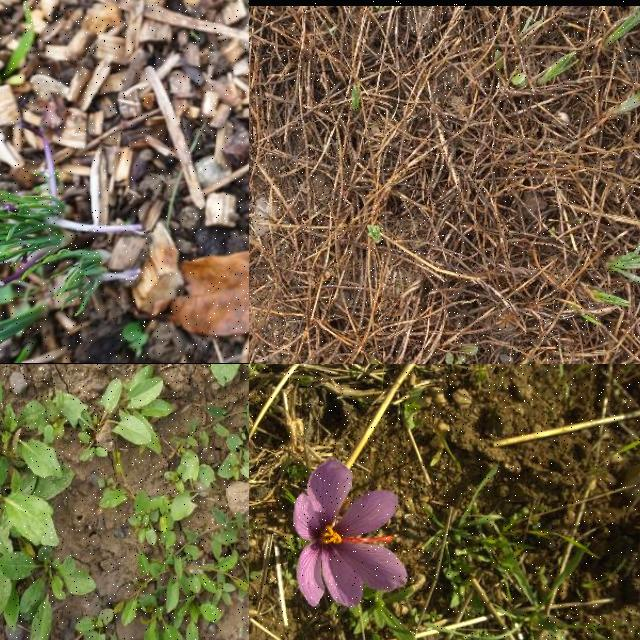flower: (292, 458, 408, 608)
